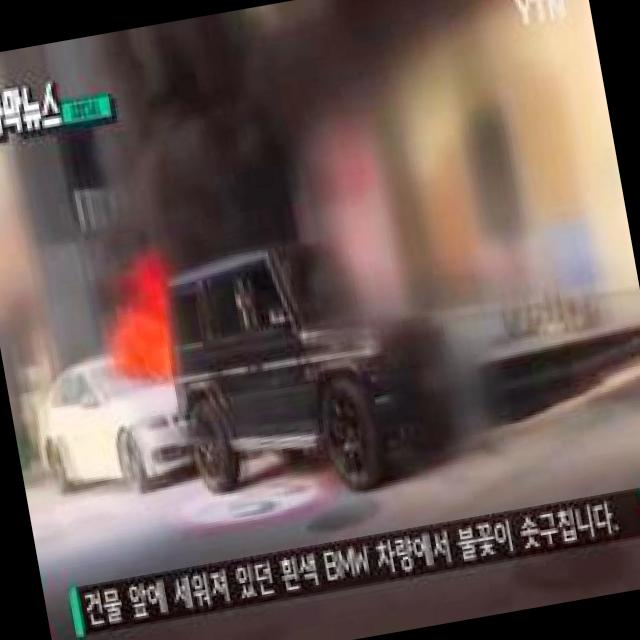fire: (114, 311, 176, 385)
